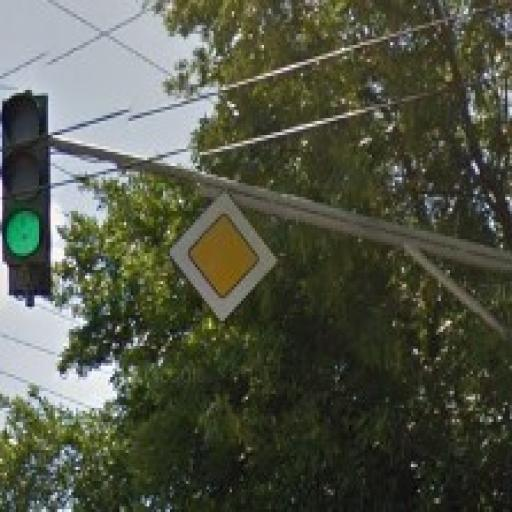traffic_sign: (166, 190, 281, 328)
